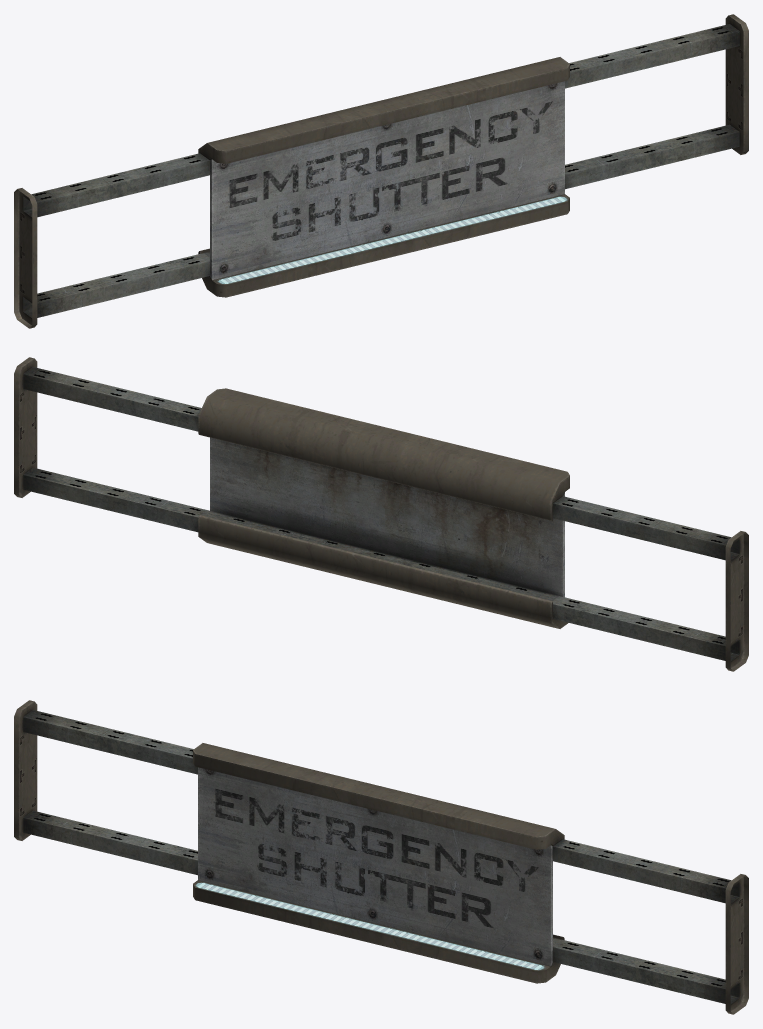
The model's file is sign_emergency_shutter.dae.
3 views of the same model, one above another, from view 1: azimuth 30°, elevation 25°; view 2: azimuth 150°, elevation 25°; view 3: azimuth 330°, elevation 25° (orthographic).
Parts seen in each view (by area): view 1: pCube1; view 2: pCube1; view 3: pCube1.
Part boxes in pixels (x1,y1,x2,y2): pCube1: (14,14,748,328); pCube1: (14,357,748,671); pCube1: (14,700,748,1014).
Size of the model in its own units: 2.03 by 0.3959 by 0.1205.
